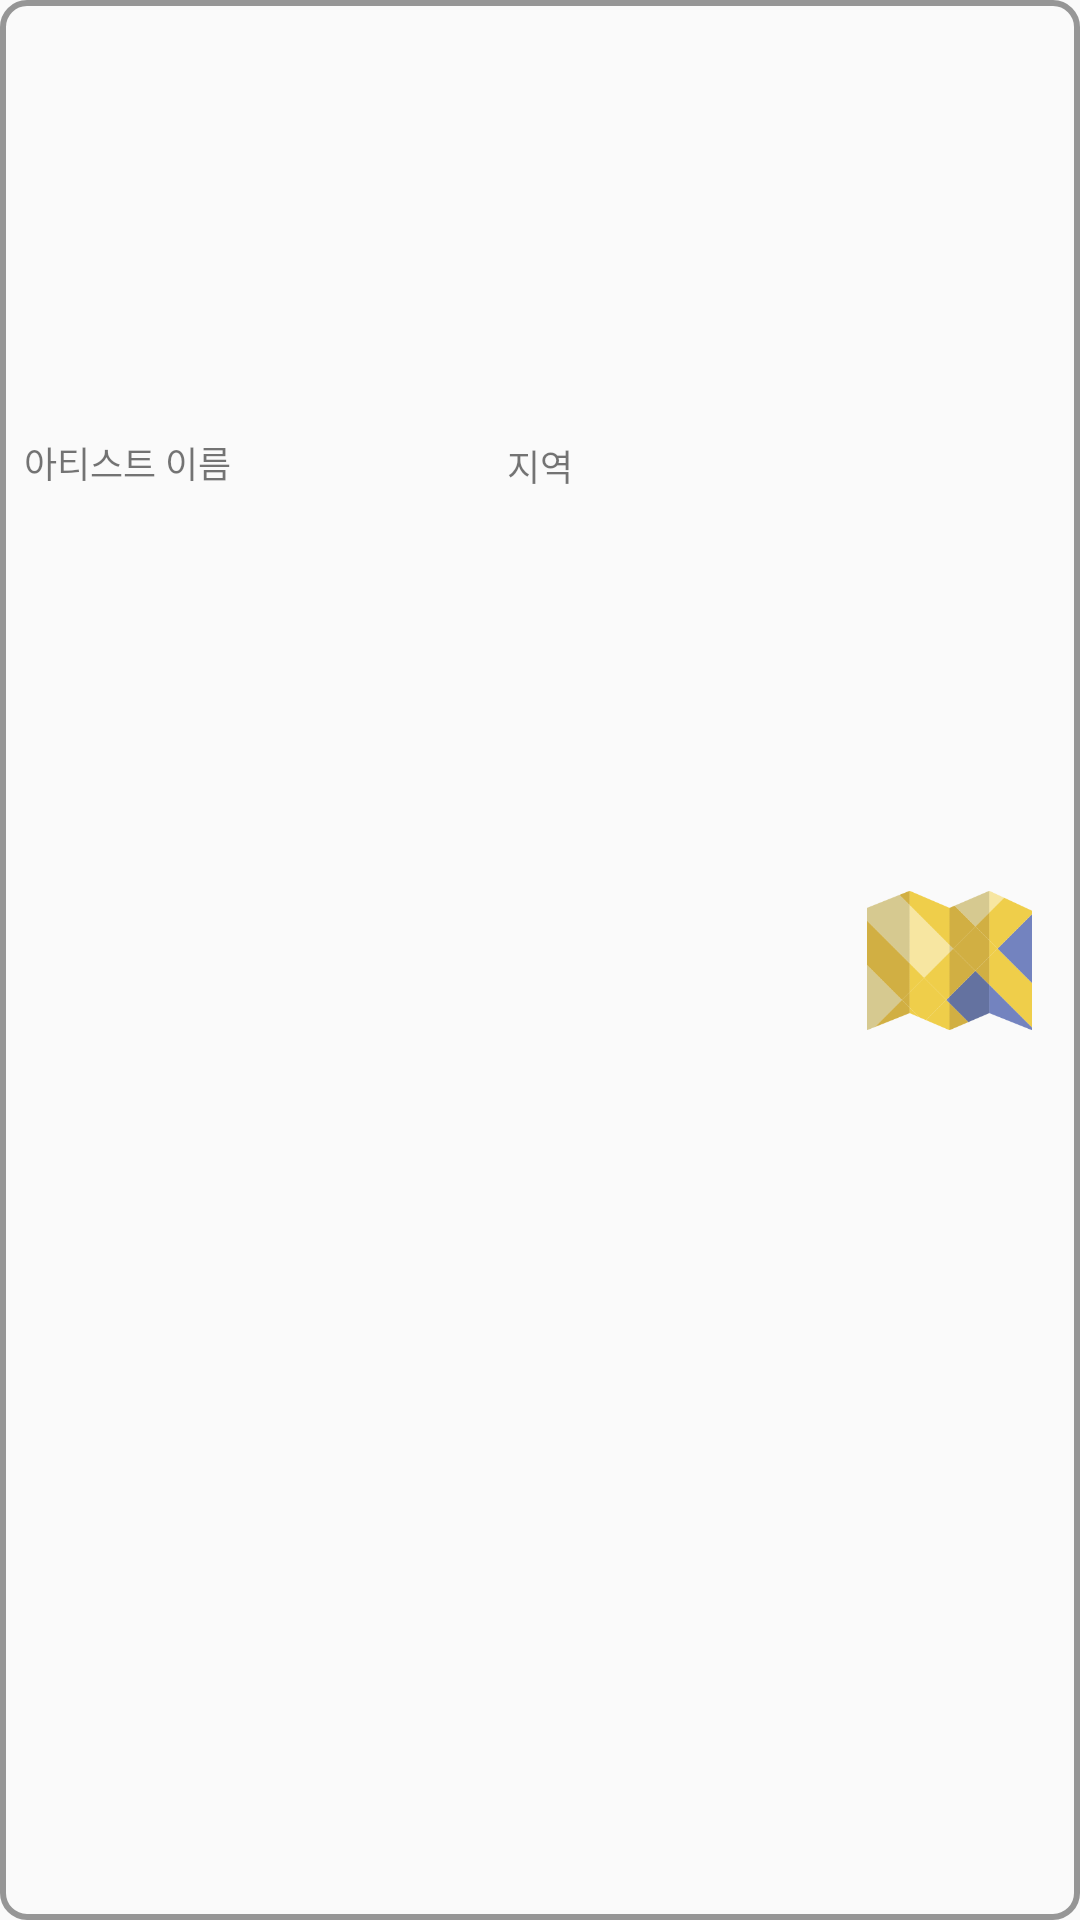

Icon click points for this 1080 x 1920 phone screenshot, format (x,y):
map: (949,960)
